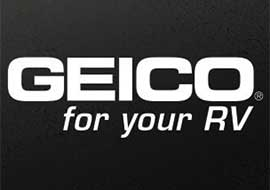Geico: (8, 56, 255, 100)
